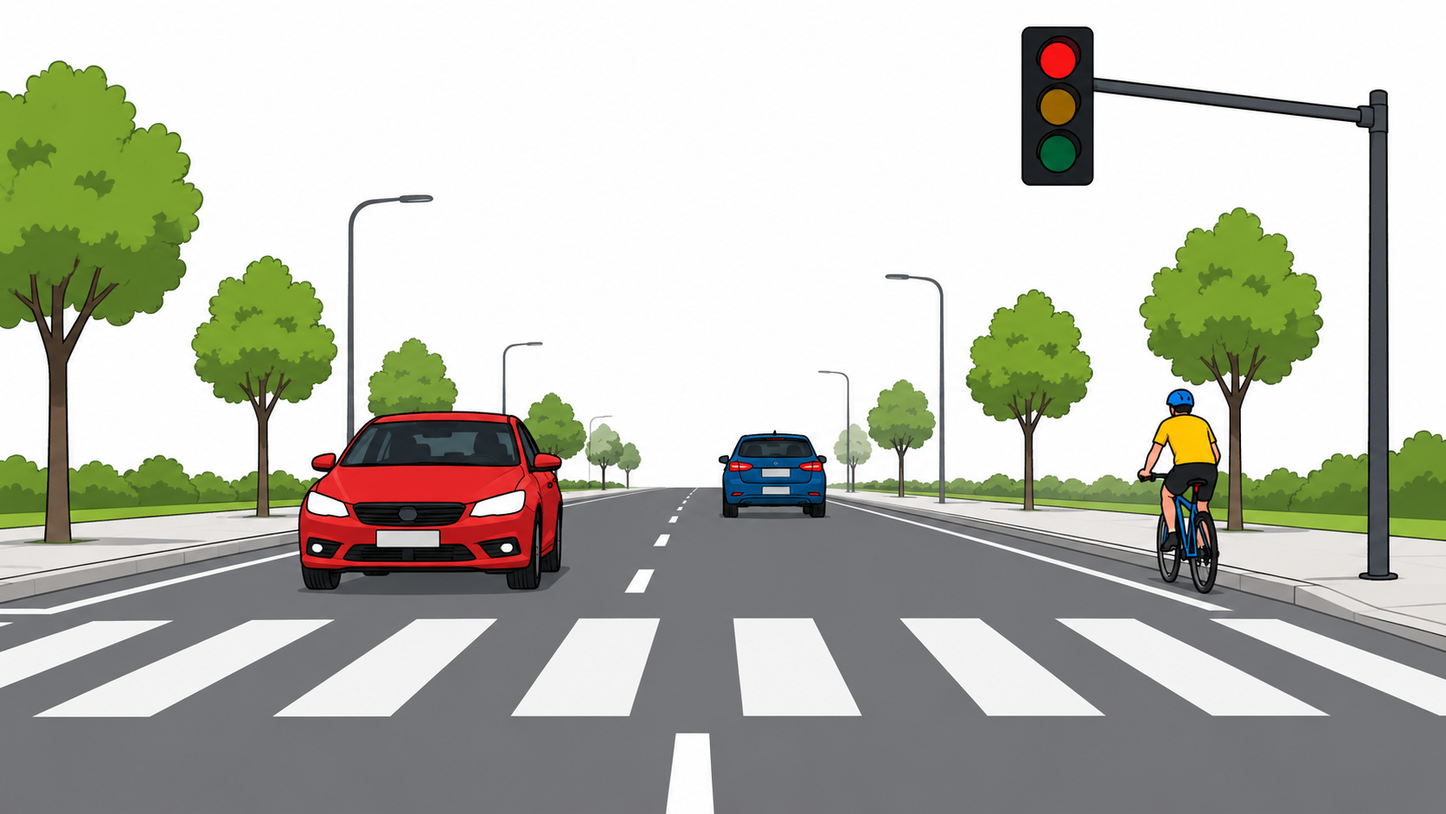bicycle: (1138, 468, 1225, 595)
car: (300, 412, 562, 591), (722, 433, 825, 520)
person: (1138, 391, 1220, 590)
traffic_light: (1021, 25, 1096, 186)
zebra_crossing: (0, 619, 1446, 720)
